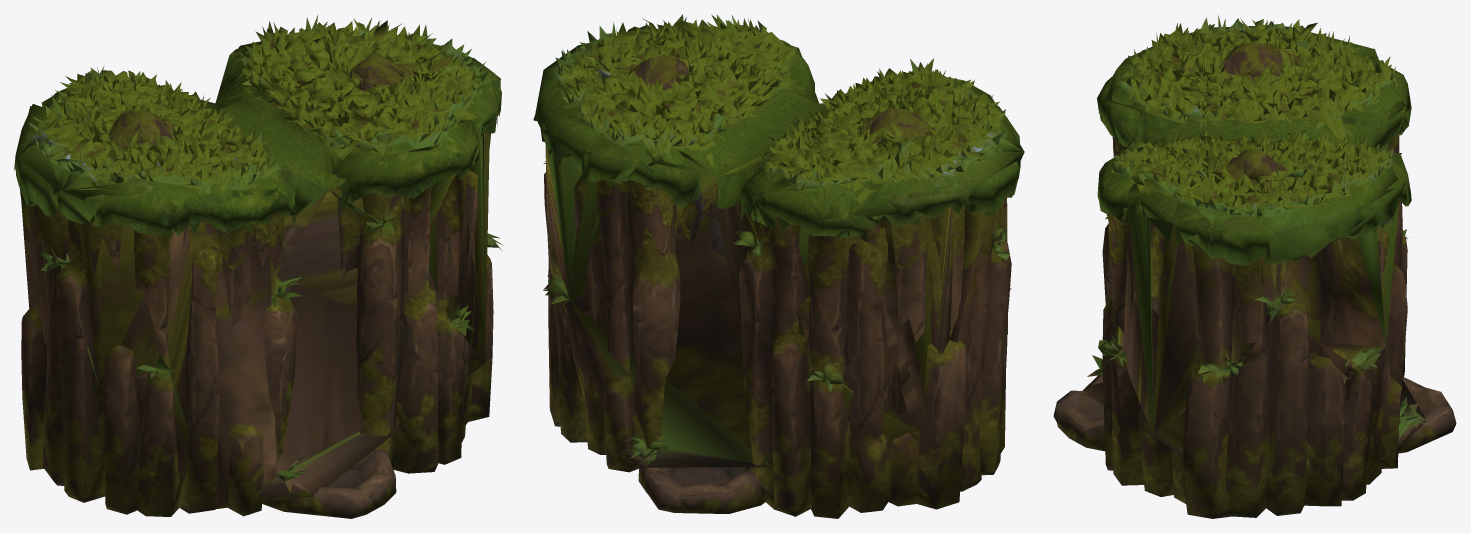
Rendered from JGH_WaterfallFace_B.fbx.
The picture shows the model from 3 angles, left to right: view 1: azimuth 30°, elevation 25°; view 2: azimuth 150°, elevation 25°; view 3: azimuth 270°, elevation 25°; orthographic projection. The views are drawn at different scales.
Parts seen in each view (by area): view 1: JGH_WaterfallFace_B, JGH_WaterfallFace_B_far; view 2: JGH_WaterfallFace_B, JGH_WaterfallFace_B_far; view 3: JGH_WaterfallFace_B, JGH_WaterfallFace_B_far.
Boxes of the visible parts, x1,y1,x2,y2 form: JGH_WaterfallFace_B: (14, 14, 503, 518); JGH_WaterfallFace_B_far: (16, 26, 500, 508); JGH_WaterfallFace_B: (535, 14, 1020, 518); JGH_WaterfallFace_B_far: (533, 21, 1024, 467); JGH_WaterfallFace_B: (1053, 15, 1456, 518); JGH_WaterfallFace_B_far: (1082, 17, 1426, 463).
Bounding box in the file's own units: 800 × 608 × 665.
2 materials, 2 textured.
